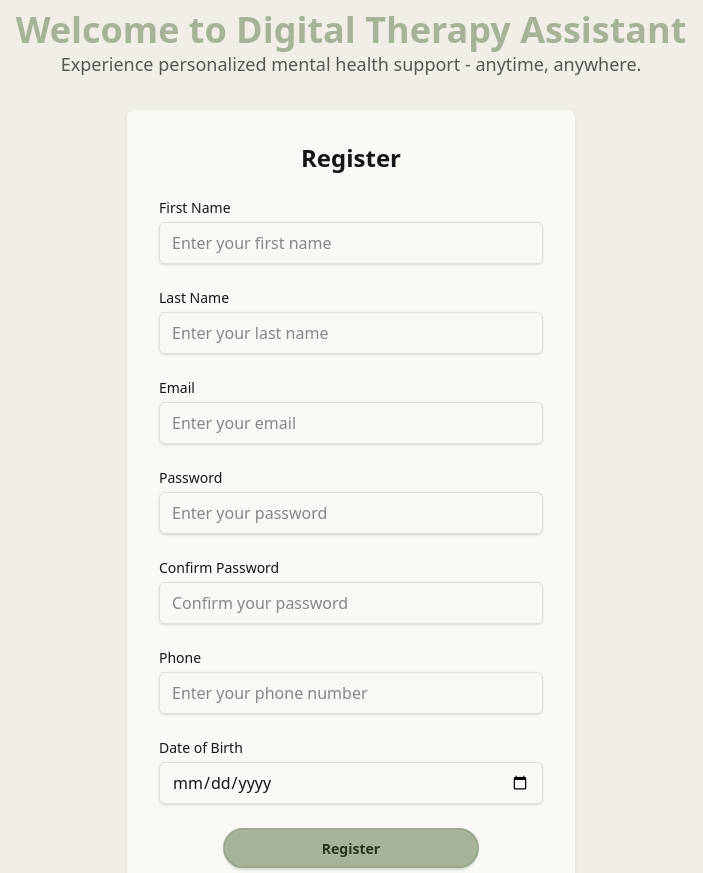
RegistrationForm - Server Error Response › displays an error message from the server
// Fill out the form with valid data and matching passwords
In the field labelled "First Name": (351, 243) [159, 222, 543, 264], type "Jane"
In the field labelled "Last Name": (351, 333) [159, 312, 543, 354], type "Smith"
In the field labelled "Email": (351, 423) [159, 402, 543, 444], type "jane@example.com"
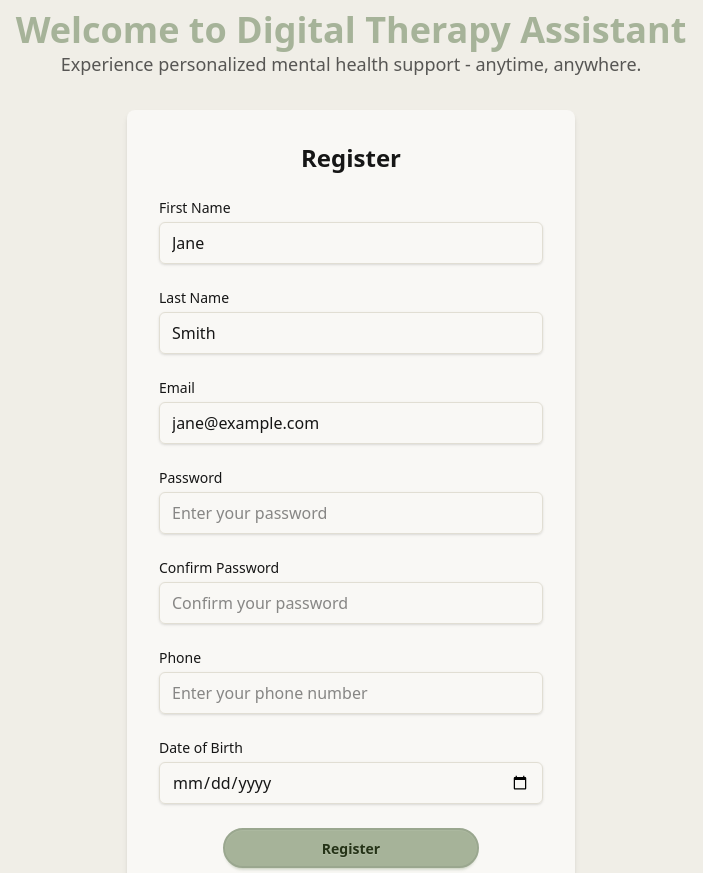
In the password field labelled "Password": (351, 513) [159, 492, 543, 534], type "password123"
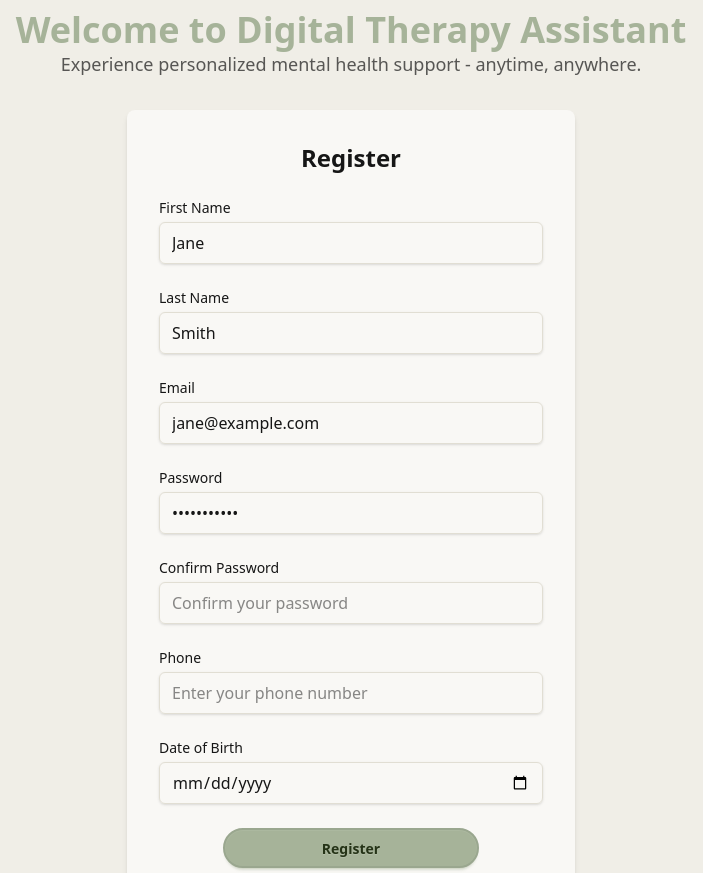
In the password field labelled "Confirm Password": (351, 603) [159, 582, 543, 624], type "password123"
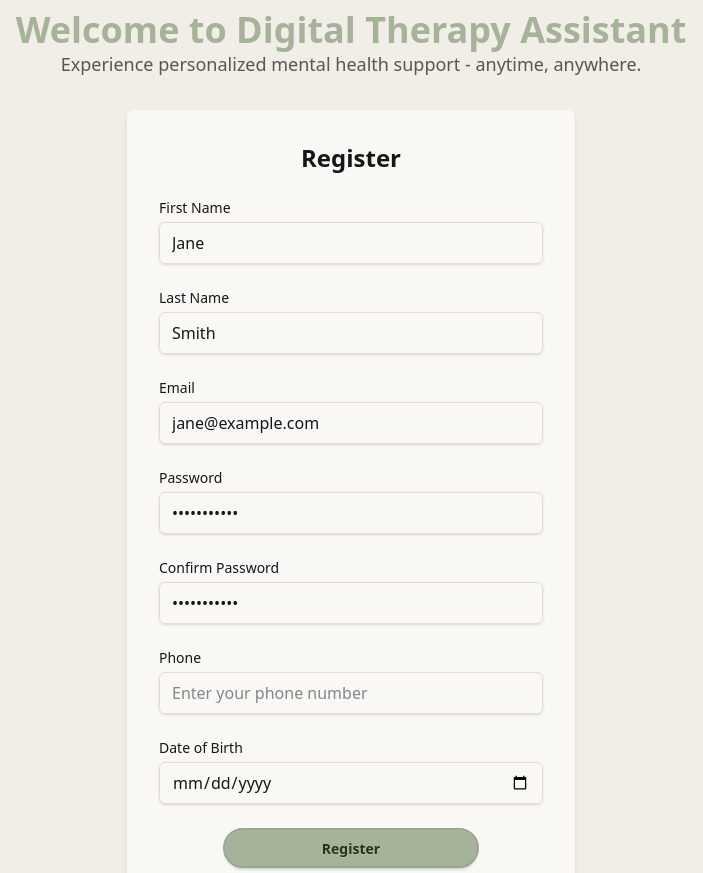
// (Optional) Fill out phone & date of birth
In the field labelled "Phone": (351, 693) [159, 672, 543, 714], type "5551234567"
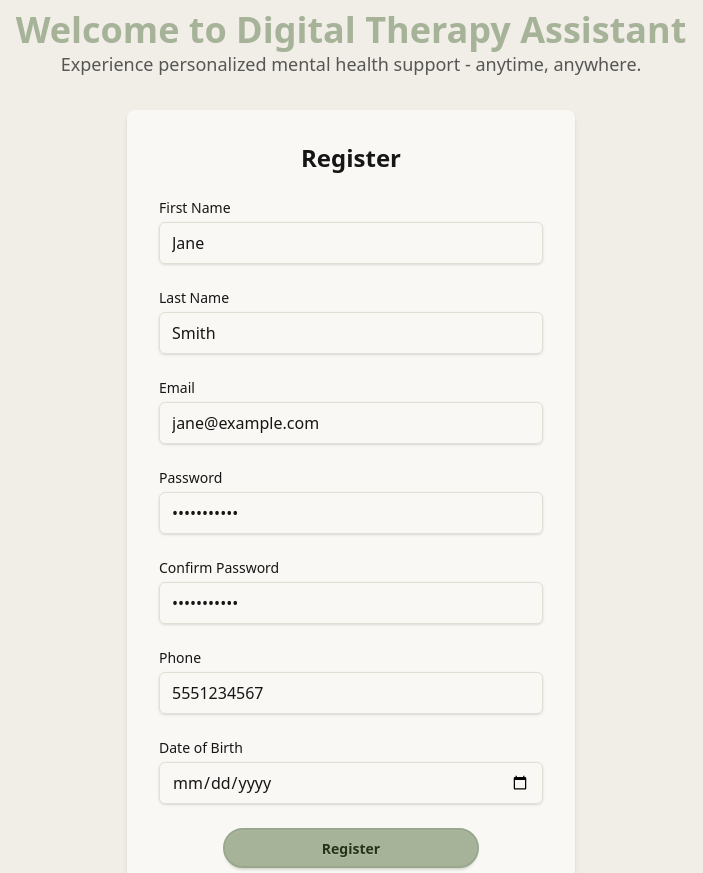
In the date field labelled "Date of Birth": (351, 783) [159, 762, 543, 804], type "1995-05-05"
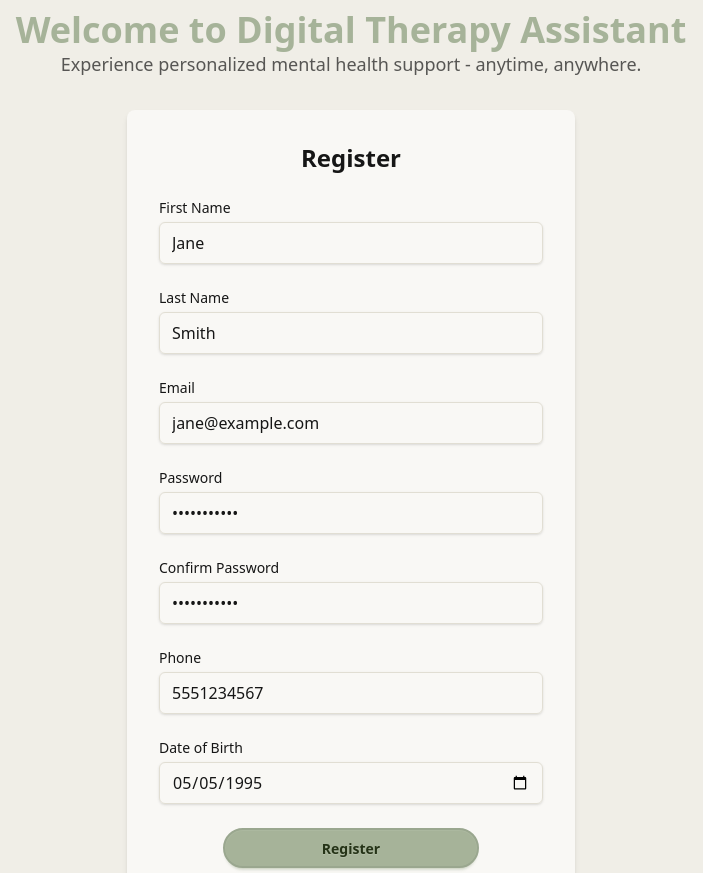
// Submit the form
Click the button "Register": (351, 848) [223, 828, 479, 868]
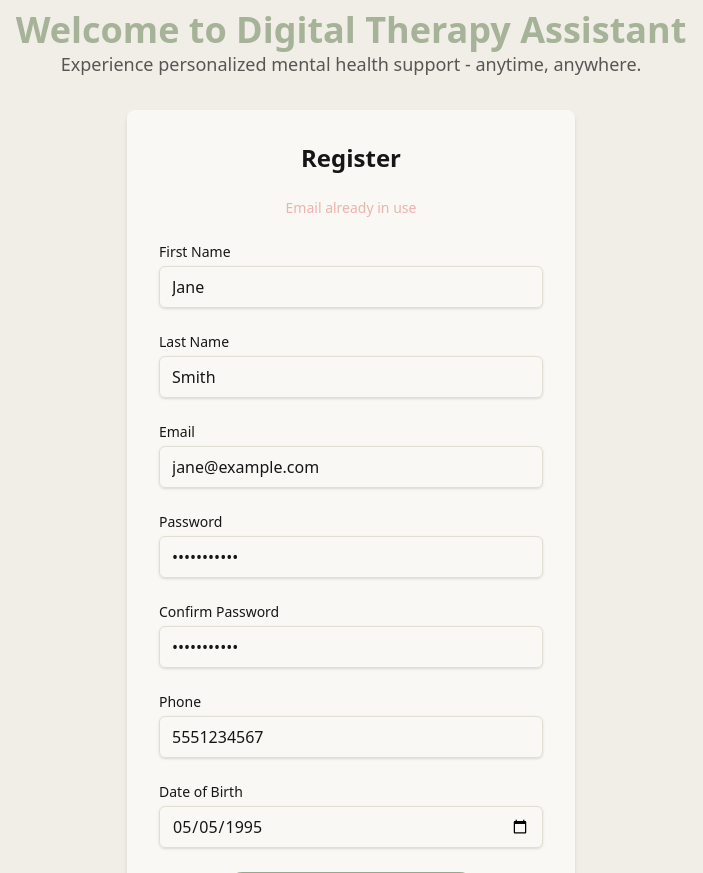
Result: the text "Email already in use" is shown at [286, 198, 416, 217]
